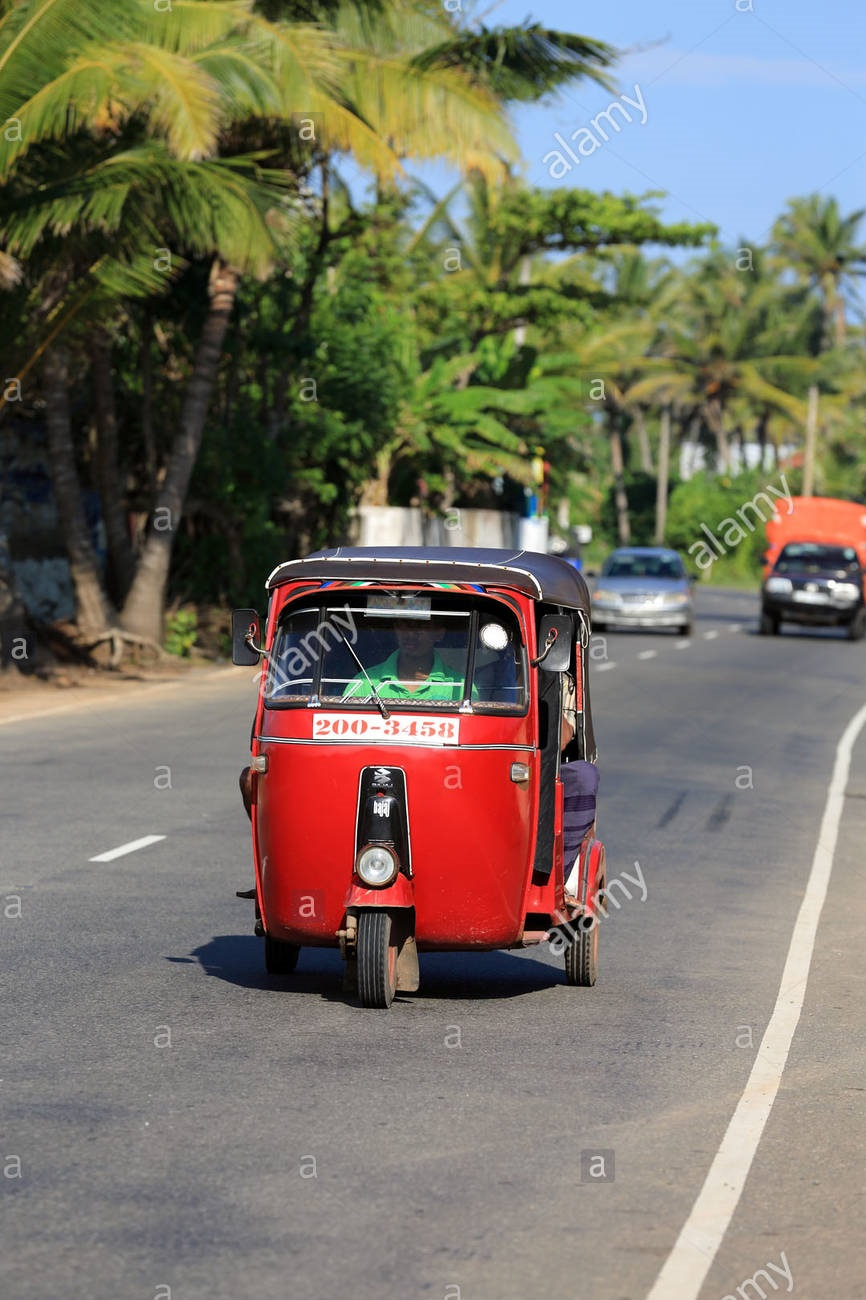tuk tuk: (233, 541, 619, 1014)
